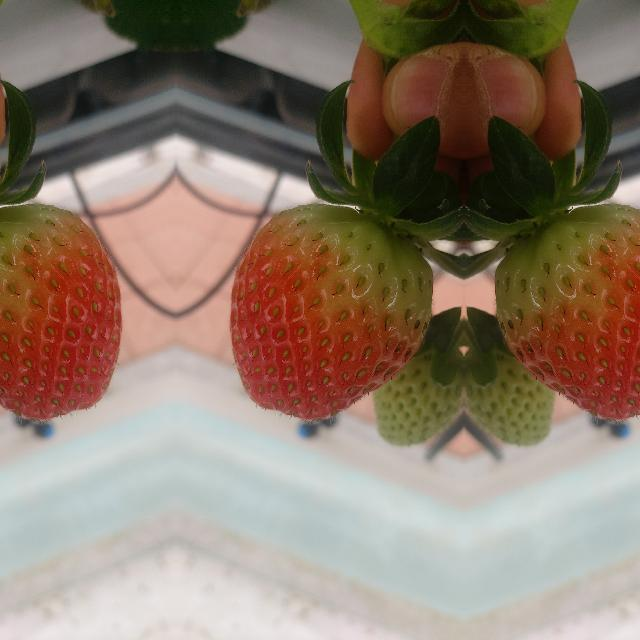Health_100: (228, 203, 430, 419), (495, 203, 640, 419), (0, 203, 122, 419)
Health_25: (374, 294, 462, 446), (464, 294, 552, 446)
